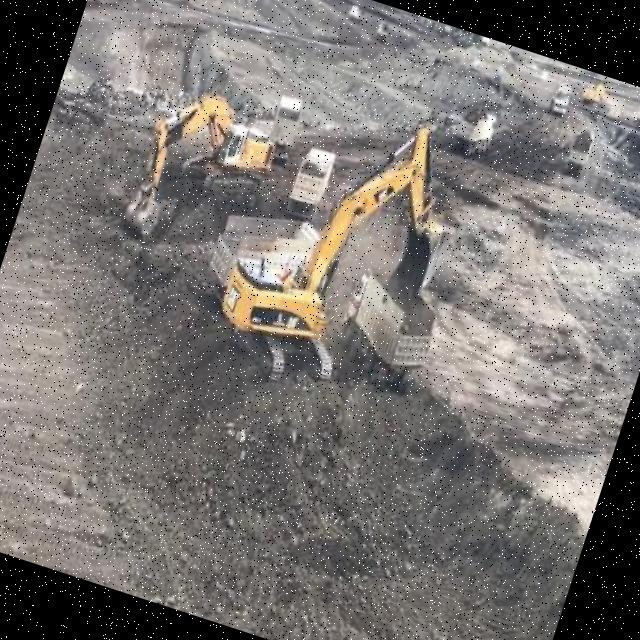Dump Truck: (324, 261, 448, 402), (205, 195, 322, 308), (284, 141, 338, 221), (258, 91, 306, 167), (450, 104, 498, 158), (564, 129, 594, 178), (548, 80, 574, 116)
Excavator: (200, 80, 482, 424), (118, 76, 289, 270)
